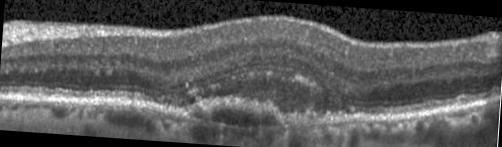subretinal_fluid: (194, 106, 281, 126)
